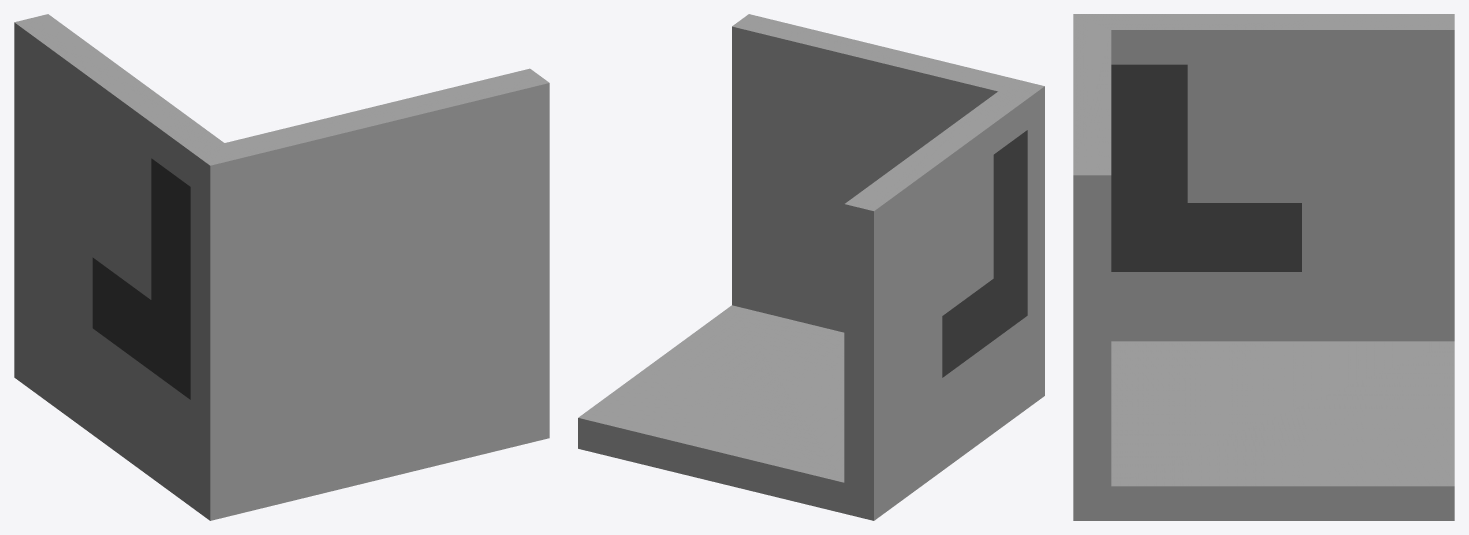
3 views of the same model, side by side, from view 1: azimuth 30°, elevation 25°; view 2: azimuth 150°, elevation 25°; view 3: azimuth 270°, elevation 25° (orthographic). The views are drawn at different scales.
Parts seen in each view (by area): view 1: RT; view 2: RT; view 3: RT.
Boxes of the visible parts, x1,y1,x2,y2 form: RT: (14, 14, 549, 520); RT: (578, 14, 1044, 520); RT: (1073, 14, 1454, 520).
Size of the model in its own units: 10 by 10 by 10.
1 material, 1 textured.
